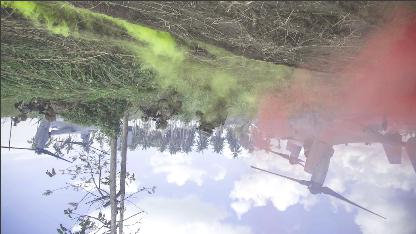Tornado: (247, 112, 414, 218), (1, 113, 131, 163)
